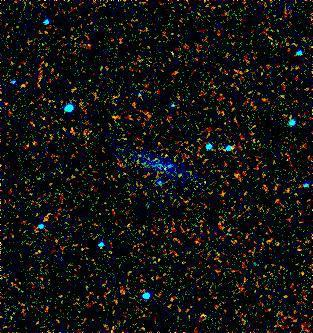star: (207, 177, 237, 207)
